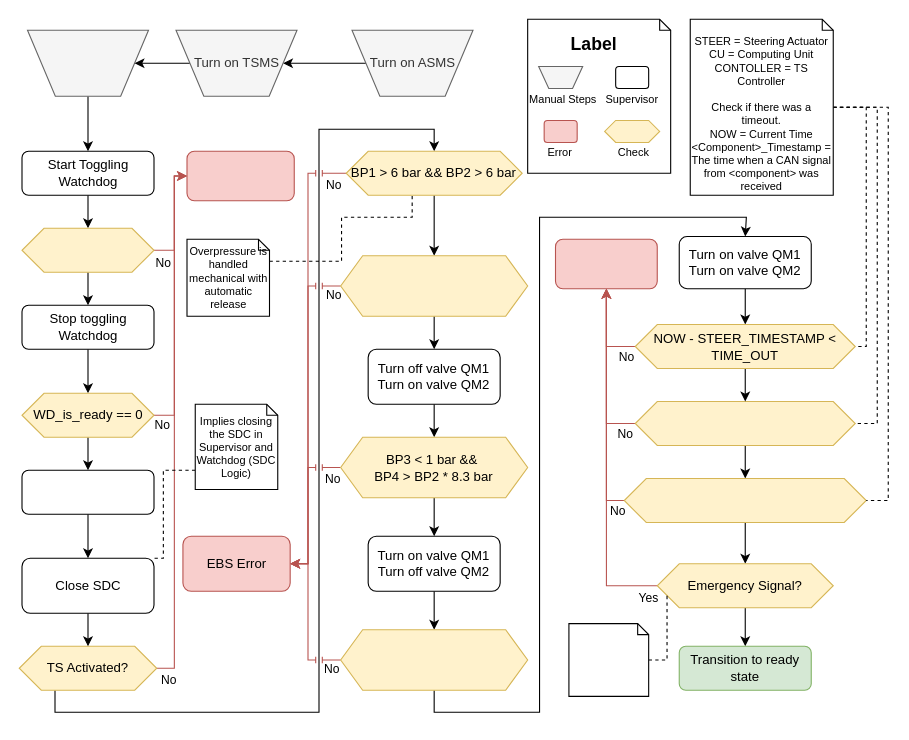
The diagram is 909 pixels wide and 740 high, and some of its shapes have lost their labels. The shapes that lost their labels are listed below. From the top down, each one's box as (x1, y1, x2, y2) in pixels, then its label:
(26, 29, 148, 96): Push External Activation Button
(186, 150, 294, 201): SDC Logic Error
(21, 227, 154, 272): WD_is_ready == 1
(554, 238, 657, 289): Component Failure
(340, 255, 528, 316): BP3 > BP1 * 8.3 bar && BP4 > BP2 * 8.3 bar
(634, 400, 855, 446): NOW - CU_TIMESTAMP < TIME_OUT
(21, 469, 154, 514): Start toggling Watchdog again
(623, 477, 866, 522): NOW - CONTROLLER_TIMESTAMP < TIME_OUT
(340, 629, 528, 690): BP3 > BP1 * 8.3 bar && BP4 < 1 bar
(568, 622, 649, 696): CAN Emergency signal from RES or CU
